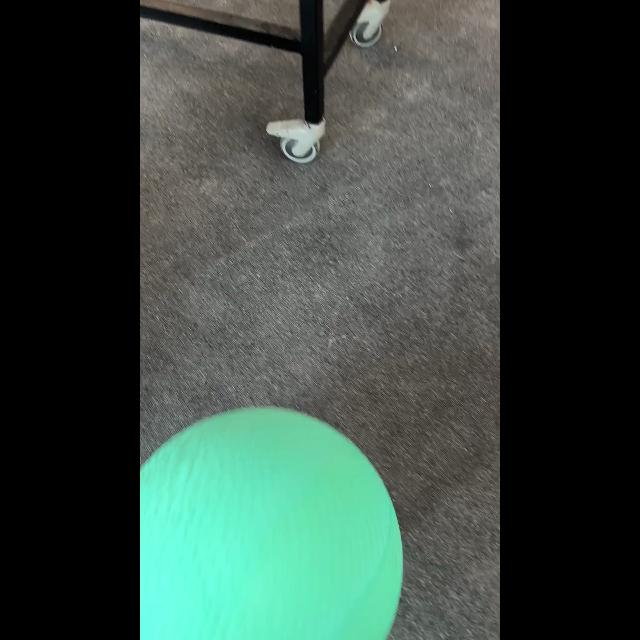ALGAE: (140, 406, 404, 638)
